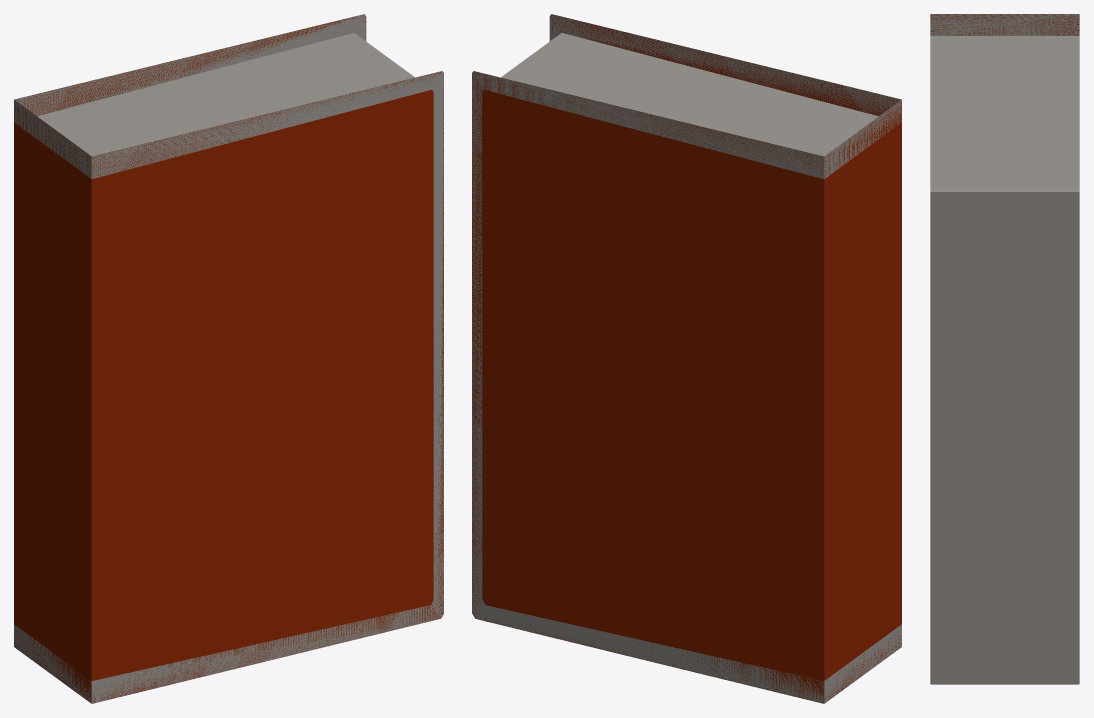
File: INVENTARIO 2.fbx
3 views of the same model, side by side, from view 1: azimuth 30°, elevation 25°; view 2: azimuth 150°, elevation 25°; view 3: azimuth 270°, elevation 25° (orthographic). The views are drawn at different scales.
Visible parts, largest first — view 1: Cube.001, Cube, Cube.002; view 2: Cube.002, Cube, Cube.001; view 3: Cube, Cube.002.
Part boxes in pixels (left/top/right/bottom): Cube.001: left=91, top=72, right=443, bottom=703; Cube: left=14, top=14, right=443, bottom=703; Cube.002: left=14, top=16, right=366, bottom=703; Cube.002: left=472, top=71, right=901, bottom=703; Cube: left=472, top=14, right=901, bottom=703; Cube.001: left=549, top=14, right=900, bottom=115; Cube: left=930, top=14, right=1079, bottom=684; Cube.002: left=930, top=14, right=1079, bottom=35.
Size of the model in its own units: 171 by 254 by 65.44.
